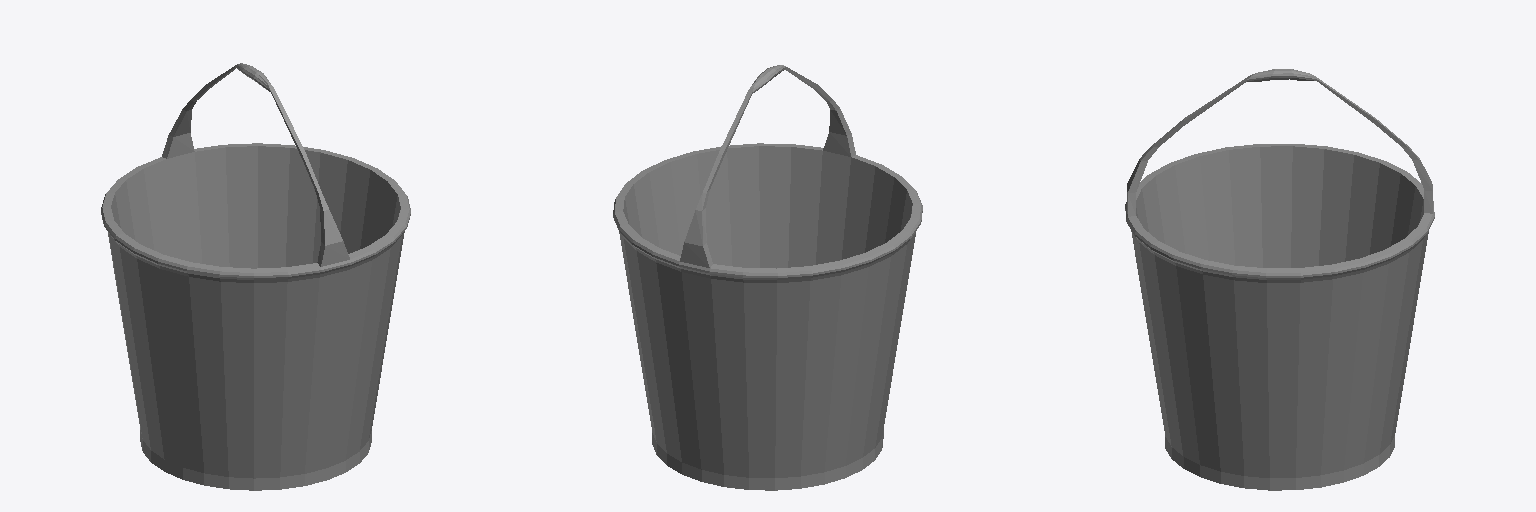
File: MetalBucket.obj
3 renders of one model, left to right at view 1: azimuth 30°, elevation 25°; view 2: azimuth 150°, elevation 25°; view 3: azimuth 270°, elevation 25°, orthographic.
Parts seen in each view (by area): view 1: Cylinder; view 2: Cylinder; view 3: Cylinder.
Part boxes in pixels (x1,y1,x2,y2): Cylinder: (101,63,410,490); Cylinder: (613,65,922,490); Cylinder: (1125,69,1434,490).
Bounding box in the file's own units: 1.6 × 2.12 × 1.6.